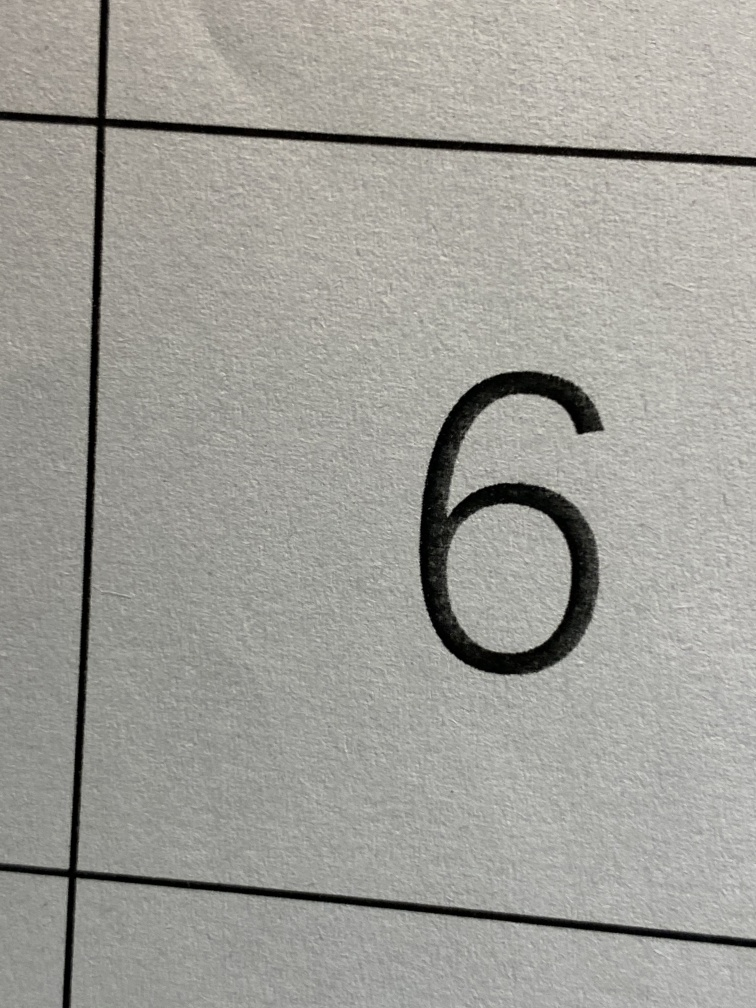six: (352, 327, 669, 732)
